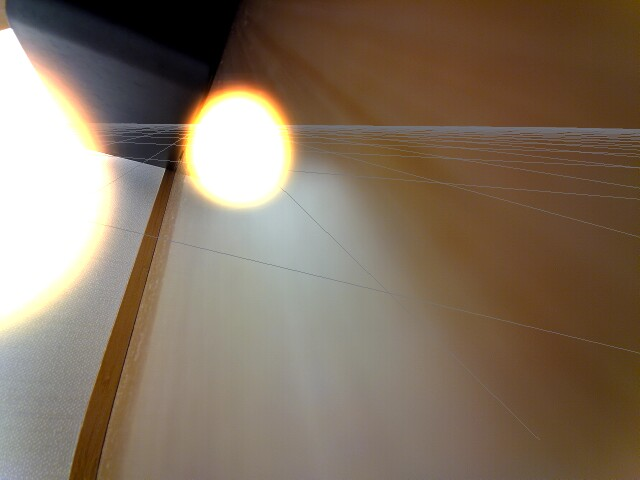fire: (2, 68, 111, 338), (180, 81, 304, 208)
